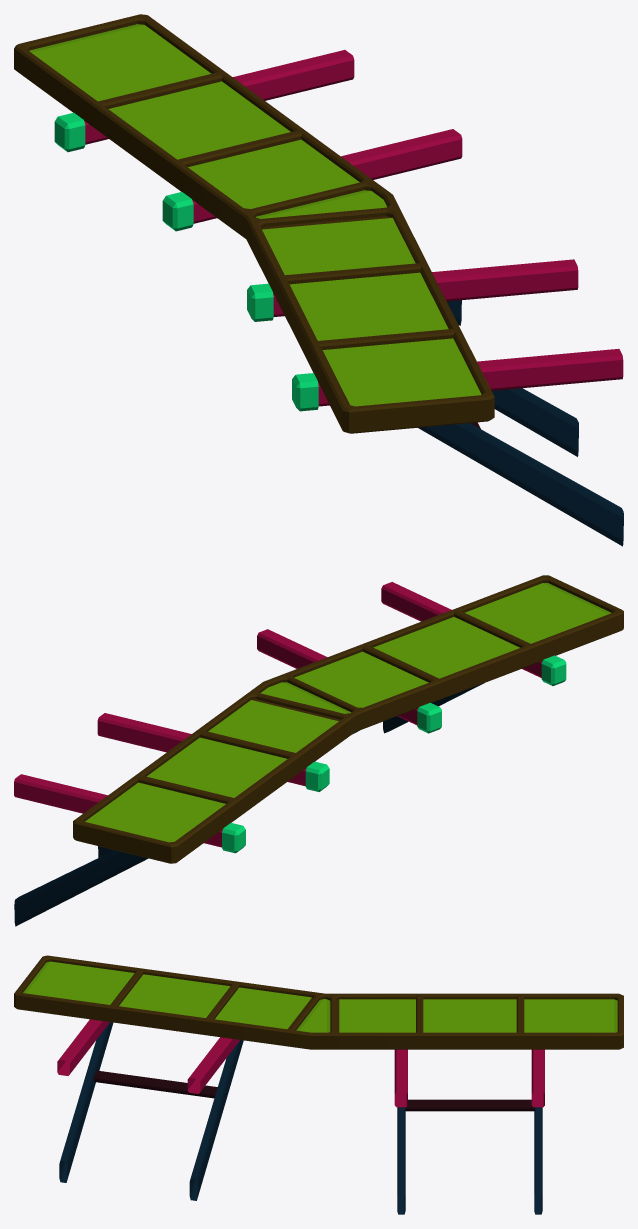
The model's file is OBJ_Plateforme_Courbe.fbx.
The picture shows the model from 3 angles, top to bottom: view 1: azimuth 30°, elevation 25°; view 2: azimuth 150°, elevation 25°; view 3: azimuth 270°, elevation 25°; orthographic projection. The views are drawn at different scales.
Parts seen in each view (by area): view 1: OBJ_Plateforme_Courbe; view 2: OBJ_Plateforme_Courbe; view 3: OBJ_Plateforme_Courbe.
Part boxes in pixels (x1,y1,x2,y2): OBJ_Plateforme_Courbe: (14, 14, 623, 546); OBJ_Plateforme_Courbe: (14, 575, 623, 926); OBJ_Plateforme_Courbe: (14, 955, 623, 1214).
Size of the model in its own units: 14.73 by 7.72 by 31.01.
